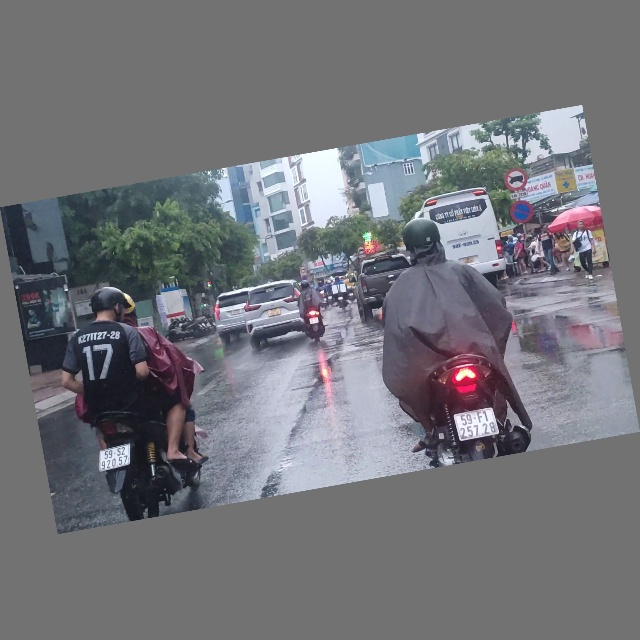P.106a*Xe tai: (503, 167, 530, 194), (357, 246, 366, 256), (299, 267, 307, 274)
P.131a: (509, 198, 536, 226)
